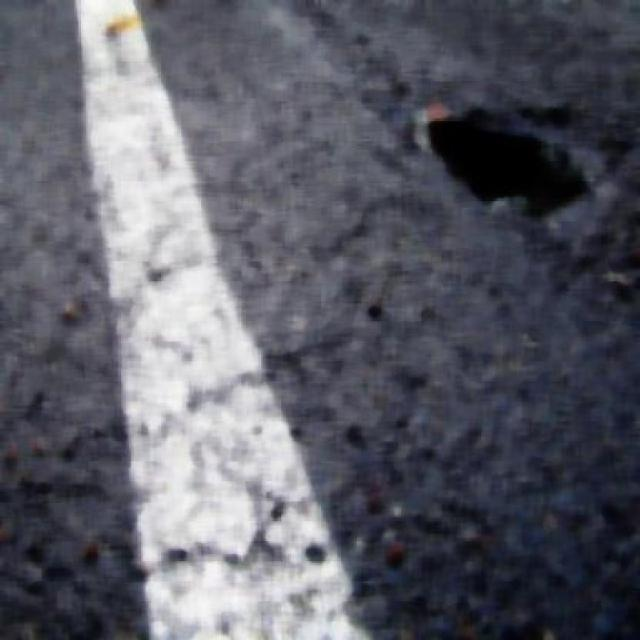Pothole: (416, 105, 630, 224)
